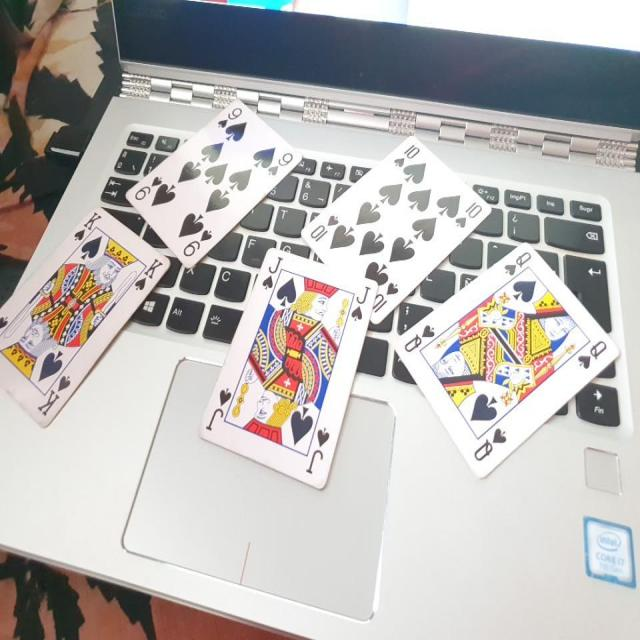10 Spades: (296, 126, 498, 329)
9 Spades: (120, 89, 304, 284)
J Spades: (202, 241, 371, 494)
K Spades: (0, 198, 168, 447)
Q Spades: (394, 240, 620, 474)
